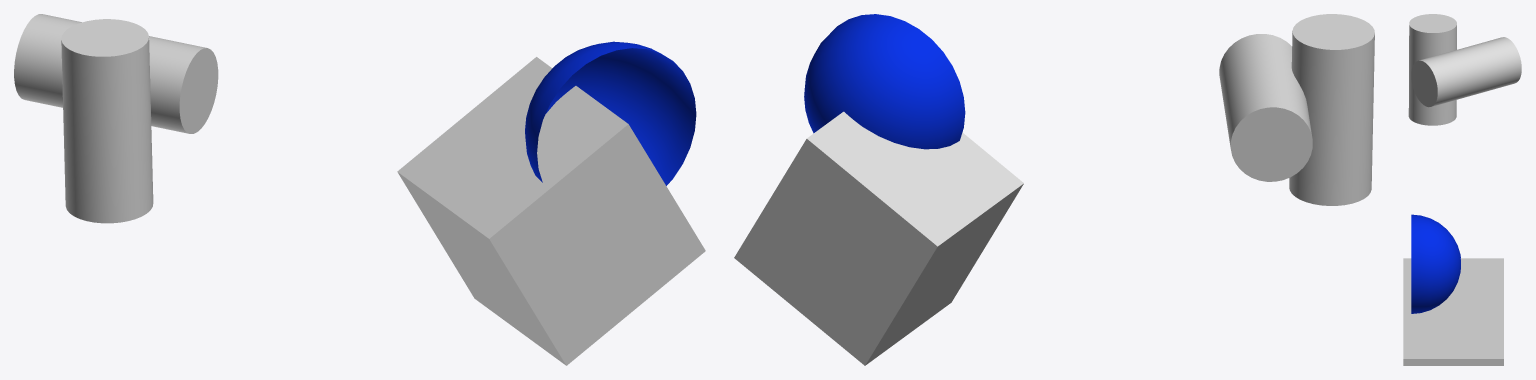
3 views of the same model, side by side, from view 1: azimuth 30°, elevation 25°; view 2: azimuth 150°, elevation 25°; view 3: azimuth 270°, elevation 25° (orthographic). The views are drawn at different scales.
Visible parts, largest first — view 1: Plane.001; view 2: Plane.001; view 3: Plane.001.
Part boxes in pixels (x1,y1,x2,y2): Plane.001: (14, 14, 705, 365); Plane.001: (734, 14, 1374, 365); Plane.001: (1403, 14, 1521, 365).
Bounding box in the file's own units: 7.67 × 2.36 × 4.97.
